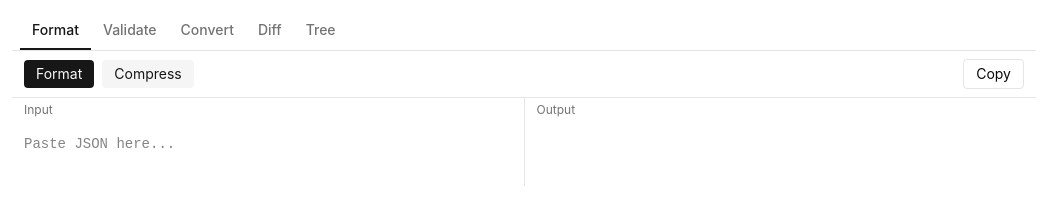
Test case: JsonFormatterPanel › switches to Validate view on tab click
The image size is (1048, 203).
Click the button with test id "tab-validate" at coordinates (130, 31), box [91,12,169,50]
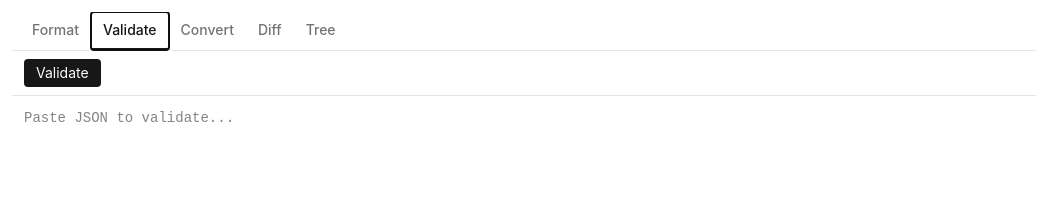
Result: the element with test id "validate-view" is shown at [12,51,1036,160]
Result: the element with test id "format-view" is gone
